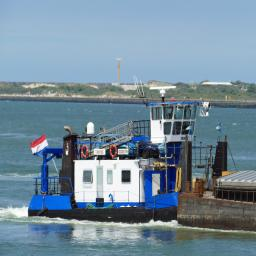tugboat: (26, 75, 233, 230)
